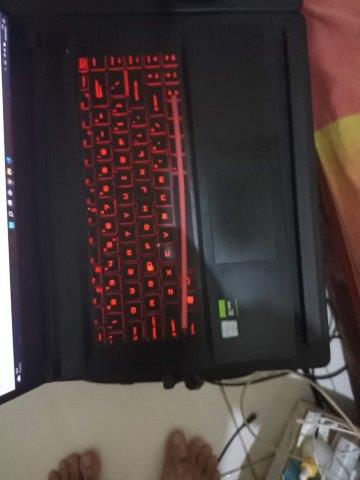sedotan: (171, 95, 187, 328)
